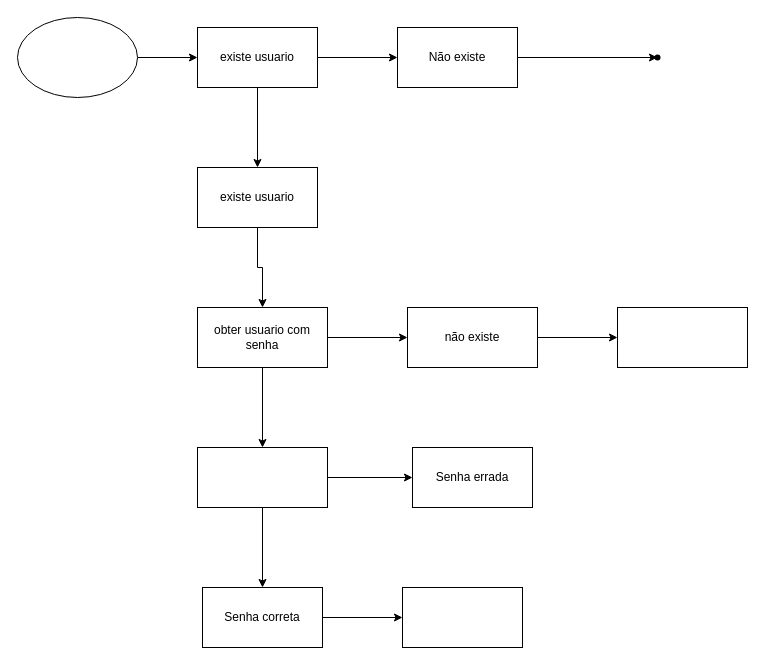
The diagram is 765 pixels wide and 665 high, and some of its shapes have lost their labels. The shapes that lost their labels are listed below. From the top down, each one's centre as x and y in pixels, then its label:
point 682,337: procurar convite
point 262,477: usuario existe
point 462,617: Criar token
